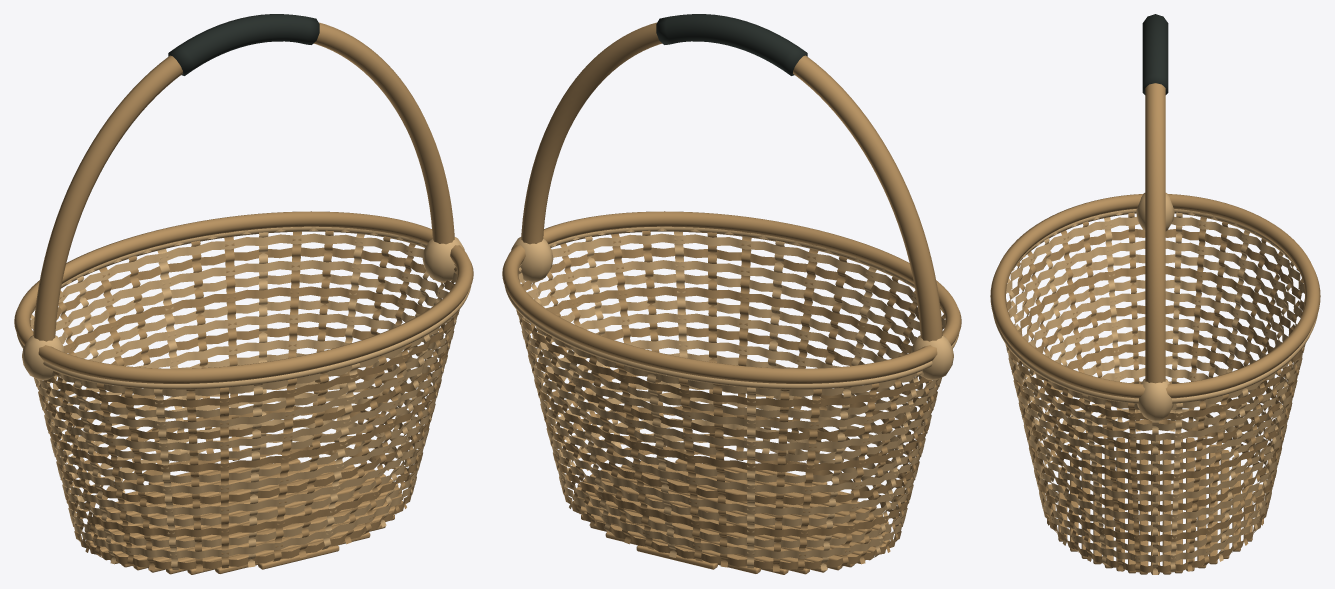
File: basket.glb
3 views of the same model, side by side, from view 1: azimuth 30°, elevation 25°; view 2: azimuth 150°, elevation 25°; view 3: azimuth 270°, elevation 25° (orthographic). The views are drawn at different scales.
Visible parts, largest first — view 1: basket__Honey_willow_natural, basket__Honey_willow_light, basket__Soft_charcoal_rubber; view 2: basket__Honey_willow_natural, basket__Honey_willow_light, basket__Soft_charcoal_rubber; view 3: basket__Honey_willow_natural, basket__Honey_willow_light, basket__Soft_charcoal_rubber.
Boxes of the visible parts, x1,y1,x2,y2 form: basket__Honey_willow_natural: (14, 22, 473, 574); basket__Honey_willow_light: (16, 226, 471, 569); basket__Soft_charcoal_rubber: (168, 14, 319, 75); basket__Honey_willow_natural: (502, 22, 961, 574); basket__Honey_willow_light: (504, 226, 959, 570); basket__Soft_charcoal_rubber: (656, 14, 807, 75); basket__Honey_willow_natural: (990, 83, 1320, 574); basket__Honey_willow_light: (993, 193, 1317, 574); basket__Soft_charcoal_rubber: (1142, 14, 1168, 94).
Size of the model in its own units: 0.5 by 0.544 by 0.342.
